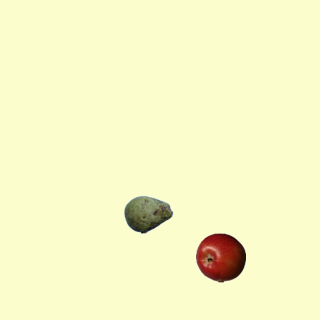Apple Braeburn: (195, 232, 245, 282)
Pear Stone: (123, 189, 173, 239)
